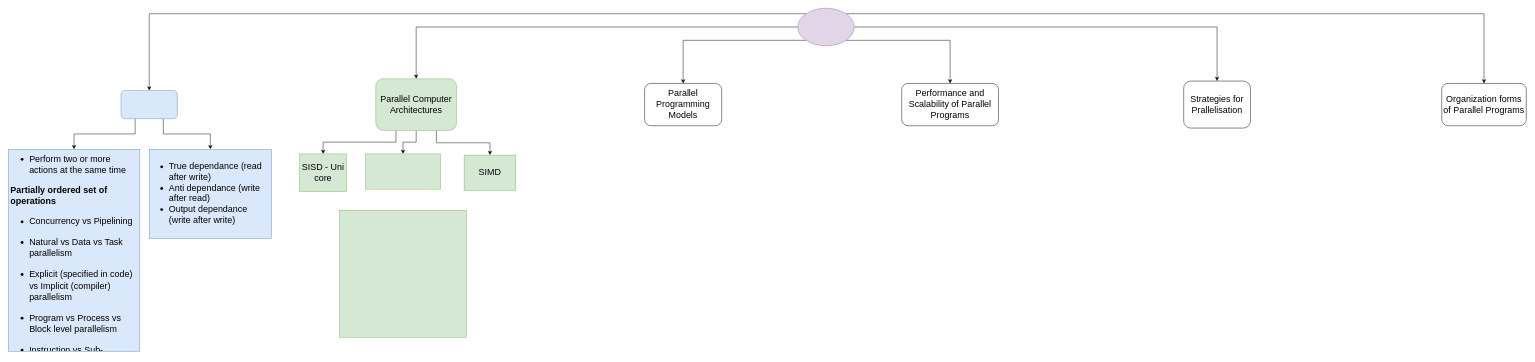
Image size: 1535x362. Some labels were removed from this diagram. The centre of each missing label's shape, as x and y in pixels:
"Basics" belongs at [825,27].
"MIMD" belongs at [403,171].
"Parallelism" belongs at [149,104].
